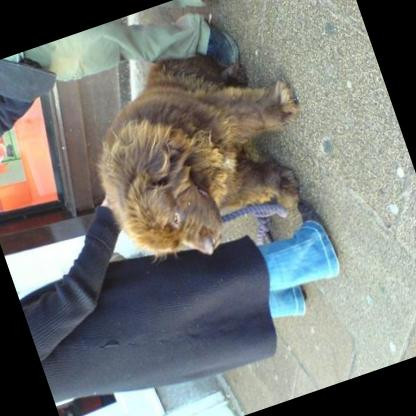Newfoundland: (69, 21, 335, 281)
